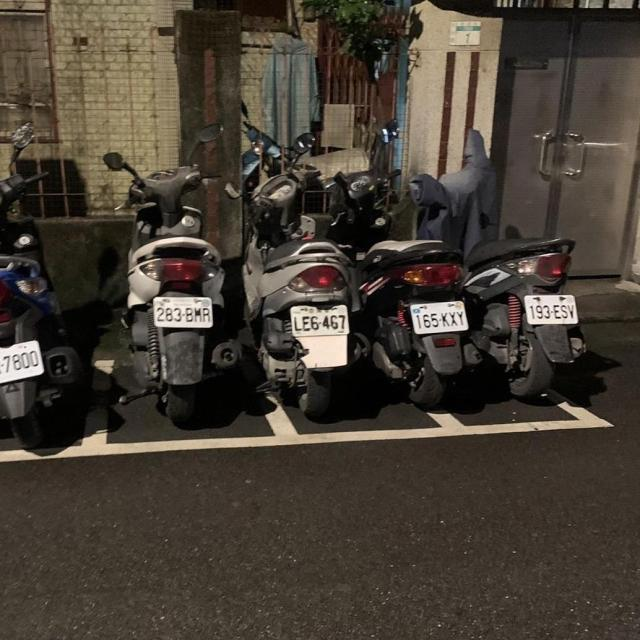W: (148, 290, 218, 331), (285, 300, 353, 340), (404, 296, 472, 335), (0, 337, 50, 389), (518, 291, 582, 327)
